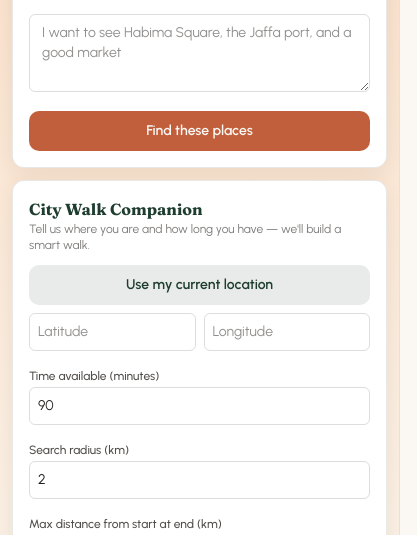
Test: building a walk › asks the API for the walk the walker described in the form
Type "32.08" into the field with placeholder "Latitude". click: (112, 332)
box: [29, 312, 196, 350]
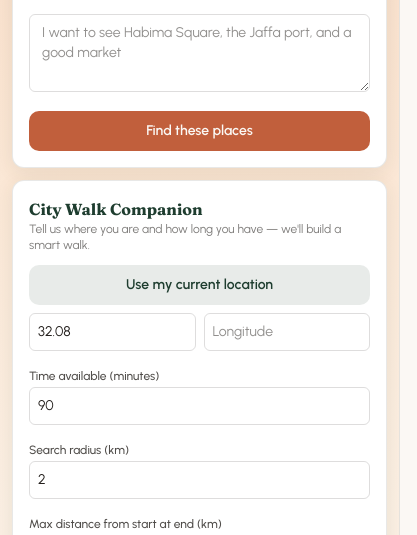
Type "34.78" into the field with placeholder "Longitude". click: (287, 332)
box: [204, 312, 370, 350]
(page scrolled)
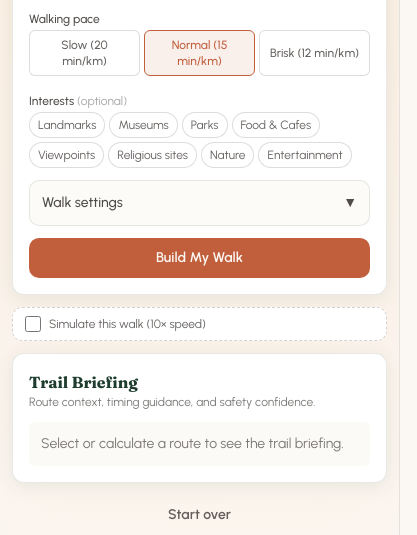
Click the button "Build My Walk". click: (200, 258)
box: [29, 238, 370, 278]
(page scrolled)
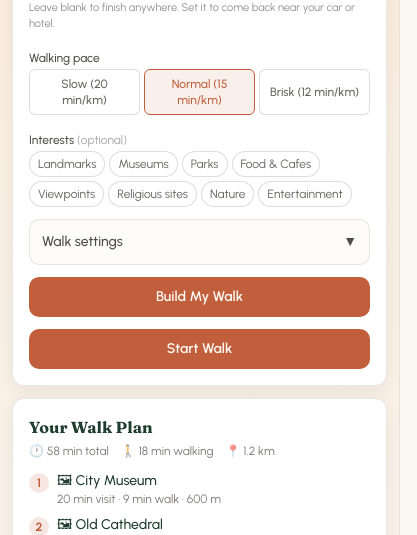
Result: the button "Start Walk" is shown at [29, 328, 370, 368]
